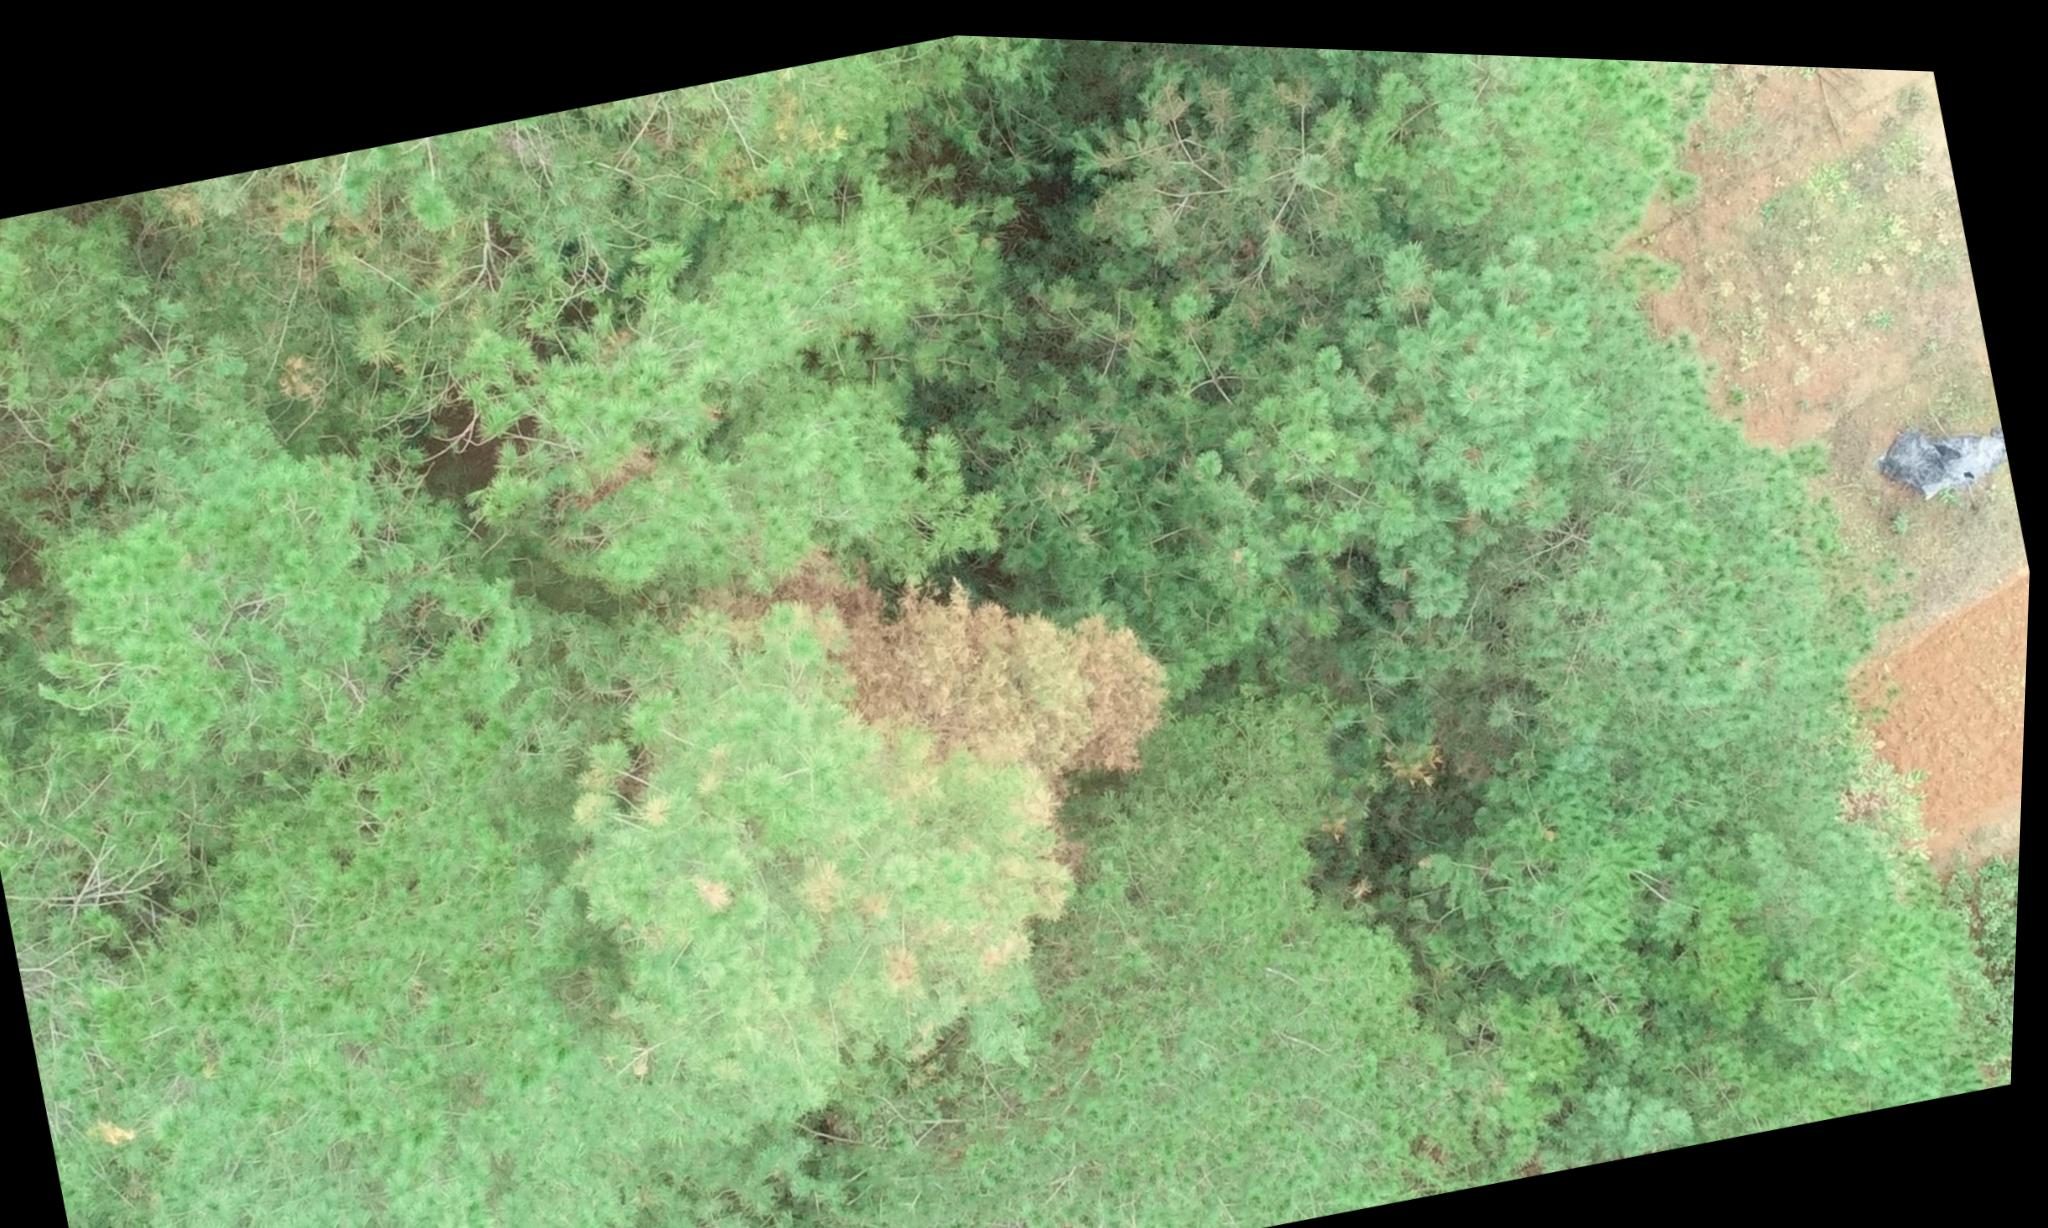heavy: (811, 493, 1197, 820)
light: (659, 779, 1110, 1074)
